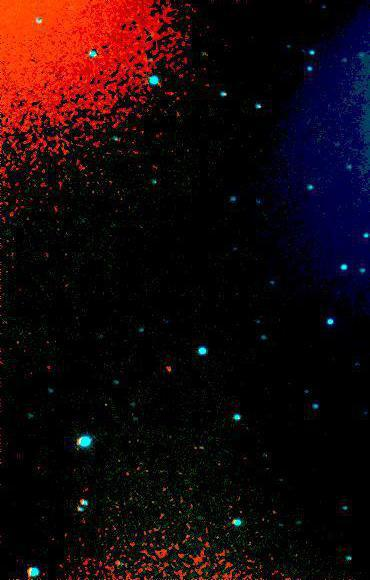star: (155, 356, 185, 386)
